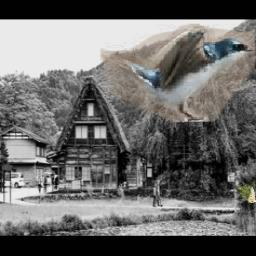Sparrow: (237, 182, 256, 204)
Swallow: (99, 24, 254, 122)
